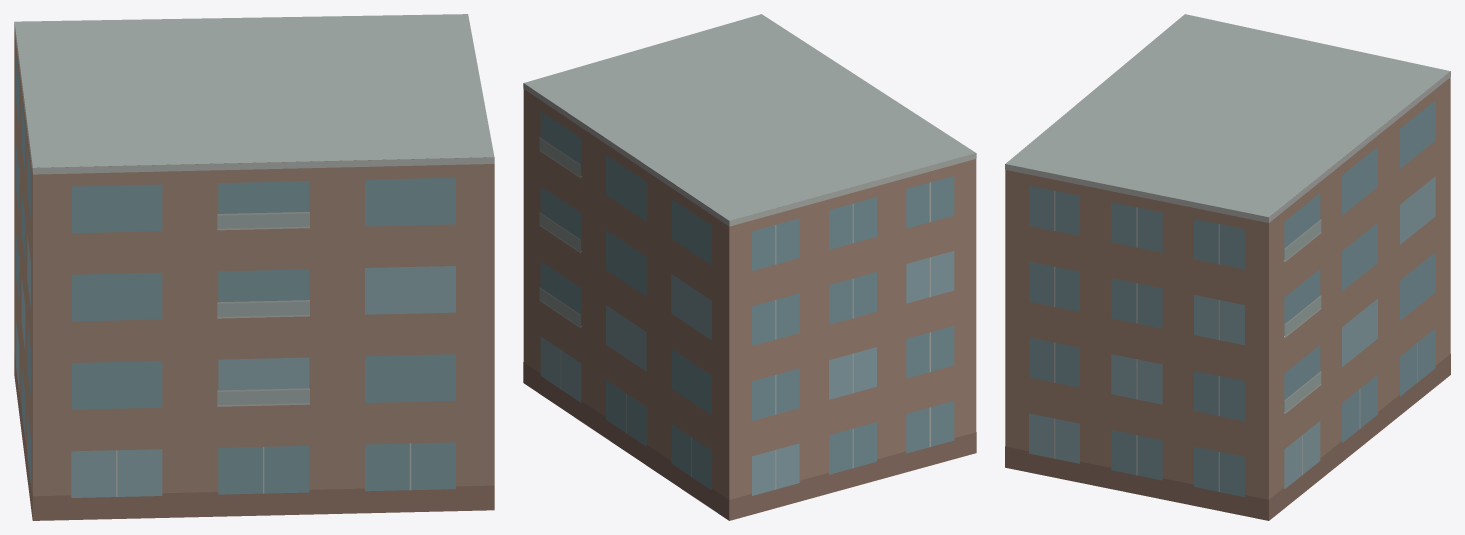
File: survey-upis-32995661.glb
The picture shows the model from 3 angles, left to right: view 1: azimuth 30°, elevation 25°; view 2: azimuth 150°, elevation 25°; view 3: azimuth 270°, elevation 25°; orthographic projection. The views are drawn at different scales.
Parts seen in each view (by area): view 1: survey-upis-32995661.tmp; view 2: survey-upis-32995661.tmp; view 3: survey-upis-32995661.tmp.
Boxes of the visible parts, x1=… form: survey-upis-32995661.tmp: x1=14, y1=14, x2=494, y2=520; survey-upis-32995661.tmp: x1=523, y1=14, x2=976, y2=520; survey-upis-32995661.tmp: x1=1005, y1=14, x2=1450, y2=520.
Size of the model in its own units: 18.38 by 12.8 by 17.03.
